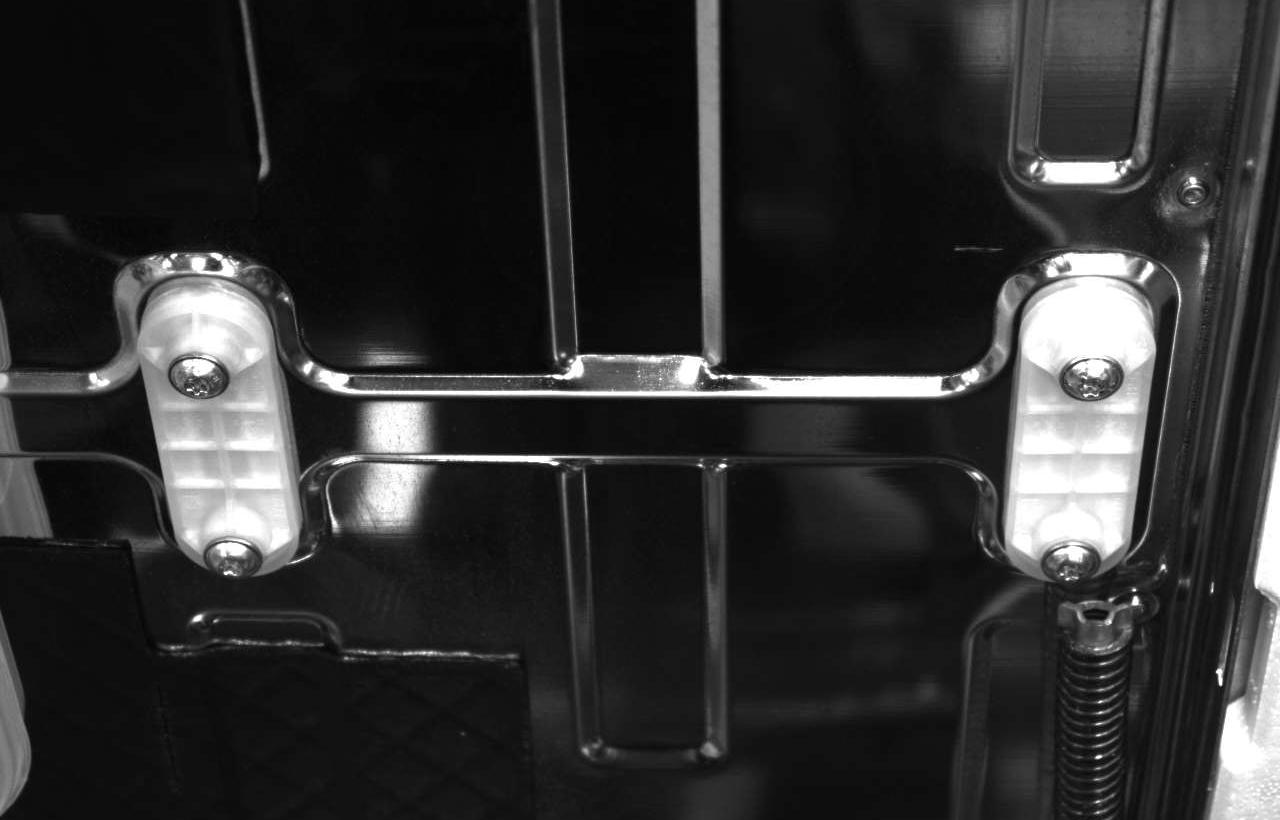vida-ok: (160, 341, 231, 408), (1063, 342, 1130, 409), (200, 525, 266, 584), (1037, 532, 1103, 591)
